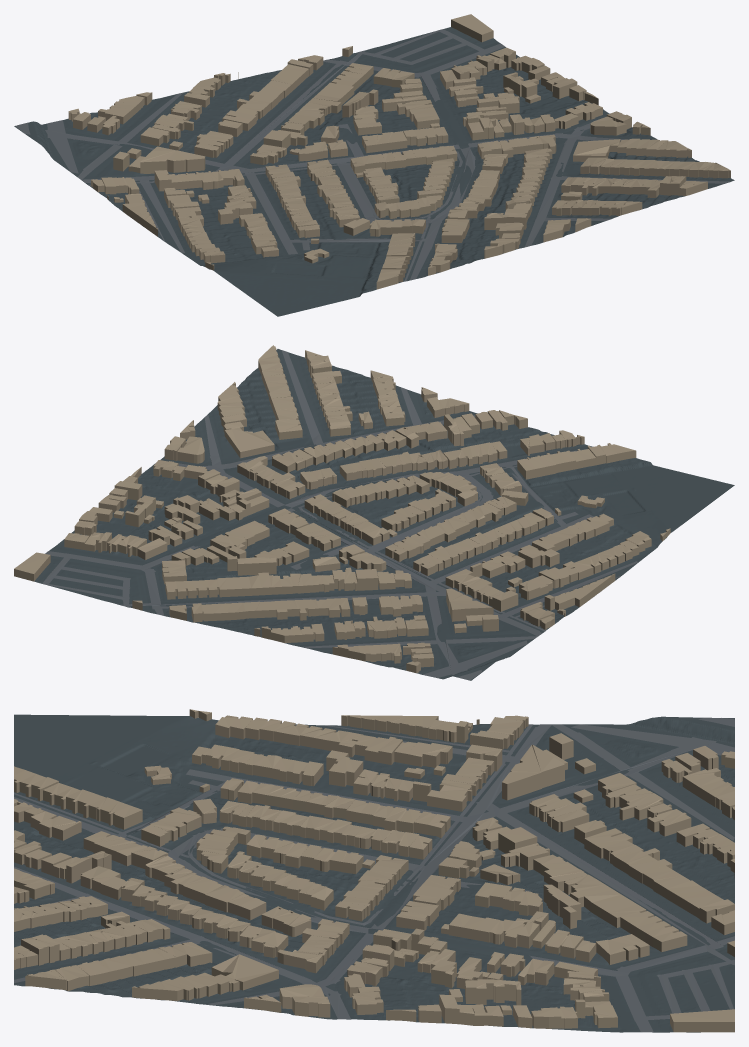
Rendered from epsg26910-1439-10875.lod0.glb.
3 renders of one model, top to bottom at view 1: azimuth 30°, elevation 25°; view 2: azimuth 150°, elevation 25°; view 3: azimuth 270°, elevation 25°, orthographic. The views are drawn at different scales.
Visible parts, largest first — view 1: epsg26910-1439-10875-lod0; view 2: epsg26910-1439-10875-lod0; view 3: epsg26910-1439-10875-lod0.
Part boxes in pixels (box(x1,y1,x2,y2)): epsg26910-1439-10875-lod0: box(14, 14, 734, 316); epsg26910-1439-10875-lod0: box(14, 345, 734, 680); epsg26910-1439-10875-lod0: box(14, 709, 734, 1032).
Bounding box in the file's own units: 384 × 36.73 × 384.
